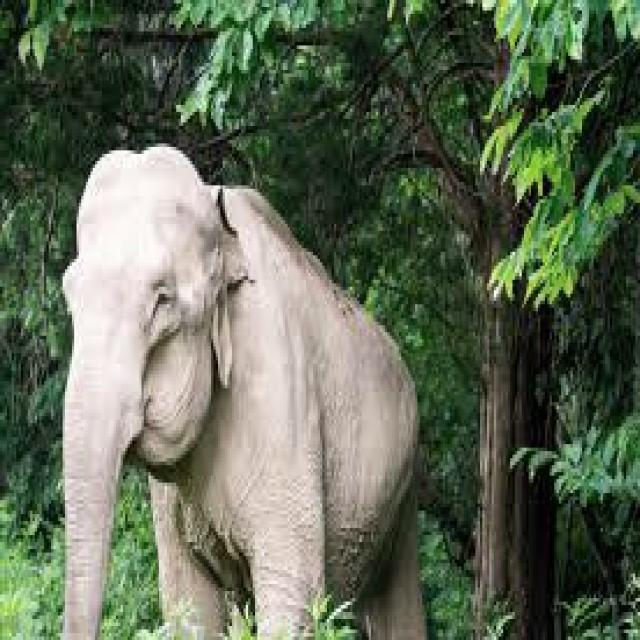elephant: (65, 147, 427, 637)
